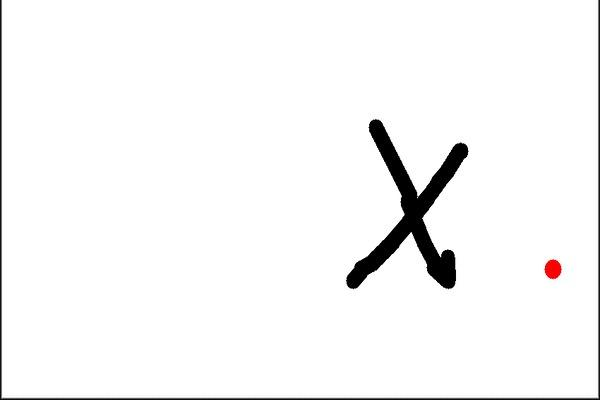X: (331, 107, 480, 316)
